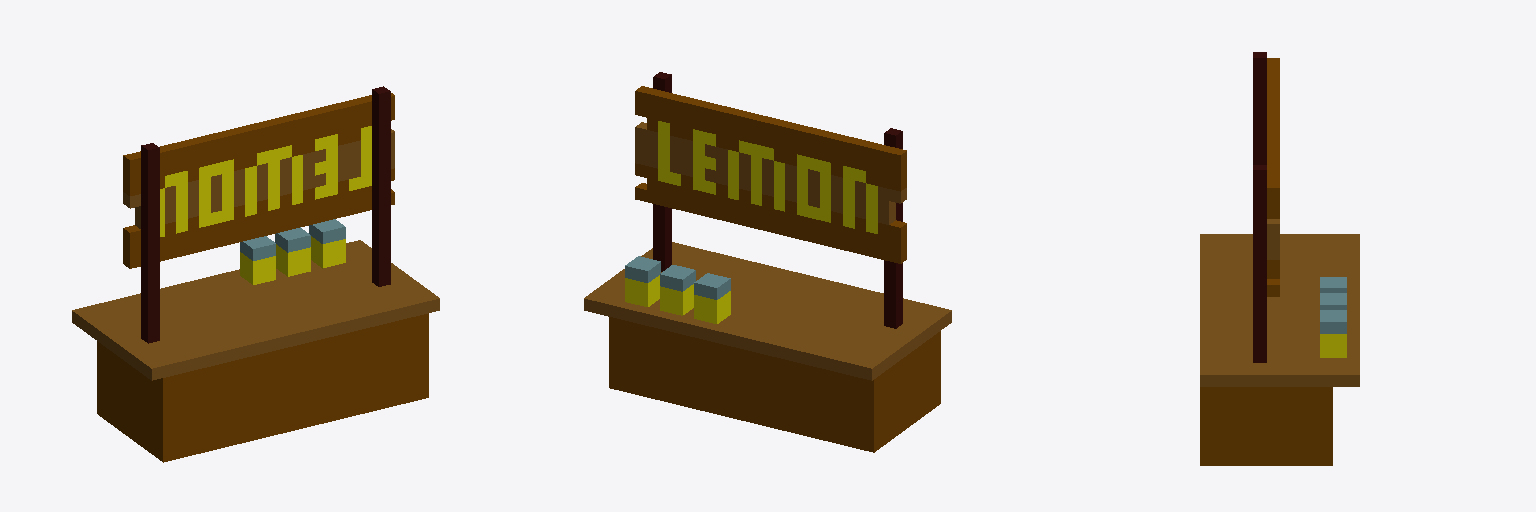
3 views of the same model, side by side, from view 1: azimuth 30°, elevation 25°; view 2: azimuth 150°, elevation 25°; view 3: azimuth 270°, elevation 25° (orthographic).
Parts seen in each view (by area): view 1: object 1; view 2: object 1; view 3: object 1.
Boxes of the visible parts, <box> form: object 1: <box>72,86,439,462</box>; object 1: <box>584,72,951,452</box>; object 1: <box>1200,52,1359,465</box>.
Bounding box in the file's own units: 2.5 × 2.4 × 1.2.
Materials: 1 (1 with a texture image).